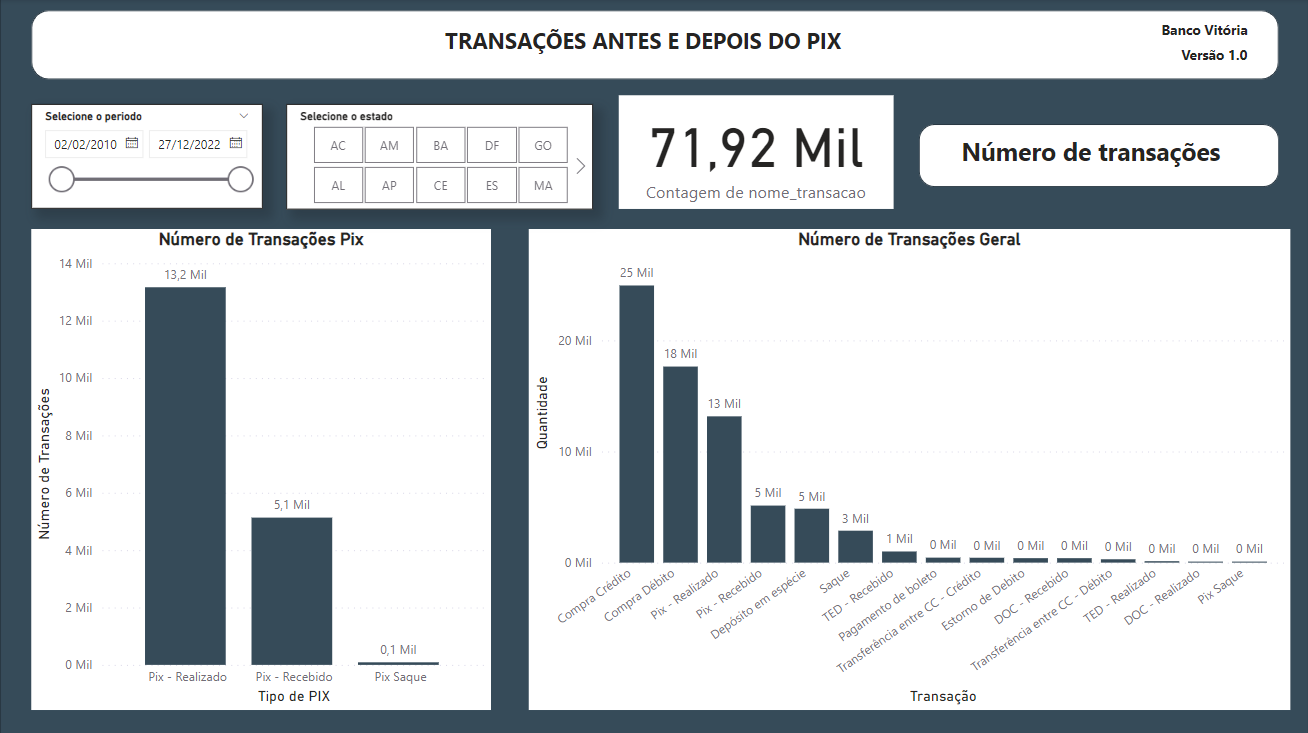

The page's visual inventory and layout, read from the dashboard file:
{"tool":"powerbi","page":{"name":"Pix","canvas":[1280,720],"ordinal":2},"visuals":[{"type":"shape","box":[0,0,1280,720],"z":0},{"type":"shape","box":[30,10.8,1220,67.7],"z":1000},{"type":"textbox","box":[430.3,20.8,720,47.7],"z":2000},{"type":"textbox","box":[1131.2,16.2,107.5,28.8],"z":3000},{"type":"textbox","box":[1150.8,40.8,83.1,28.5],"z":4000},{"type":"slicer","fields":{"Values":["contas1 0.data_abertura"]},"box":[30.6,102.7,226.1,102.7],"z":5000},{"type":"clusteredColumnChart","title":"Número de Transações Pix","fields":{"Y":["CountNonNull(transacoes2 0.nome_transacao)"],"Category":["transacoes2 0.nome_transacao"]},"box":[30.2,224.9,449.7,470.3],"z":6000},{"type":"card","fields":{"Values":["CountNonNull(transacoes2 0.nome_transacao)"]},"box":[604.6,94.6,268.7,111.1],"z":7000},{"type":"clusteredColumnChart","title":"Número de Transações Geral","fields":{"Category":["transacoes2 0.nome_transacao"],"Y":["CountNonNull(transacoes2 0.nome_transacao)"]},"box":[516.9,224.9,744.5,470.3],"z":8000},{"type":"shape","box":[898,122,352.4,61.7],"z":9000},{"type":"textbox","box":[935.1,128.9,298.9,48],"z":10000},{"type":"slicer","fields":{"Values":["transacoes2 0.estado"]},"box":[279.7,102.8,300.3,102.8],"z":10001}]}

Visuals, with their boxes in screenshot pixels (x1, y1, x2, y2), scaled from the page's 1280x720 canvas onto the 1308x733 screenshot:
shape: x1=0 y1=0 x2=1307 y2=732
shape: x1=31 y1=11 x2=1277 y2=80
textbox: x1=440 y1=21 x2=1175 y2=70
textbox: x1=1156 y1=16 x2=1266 y2=46
textbox: x1=1176 y1=42 x2=1261 y2=71
slicer - contas1 0.data_abertura: x1=31 y1=105 x2=262 y2=209
"Número de Transações Pix" clusteredColumnChart: x1=31 y1=229 x2=490 y2=708
card - CountNonNull(transacoes2 0.nome_transacao): x1=618 y1=96 x2=892 y2=209
"Número de Transações Geral" clusteredColumnChart: x1=528 y1=229 x2=1289 y2=708
shape: x1=918 y1=124 x2=1278 y2=187
textbox: x1=956 y1=131 x2=1261 y2=180
slicer - transacoes2 0.estado: x1=286 y1=105 x2=593 y2=209
